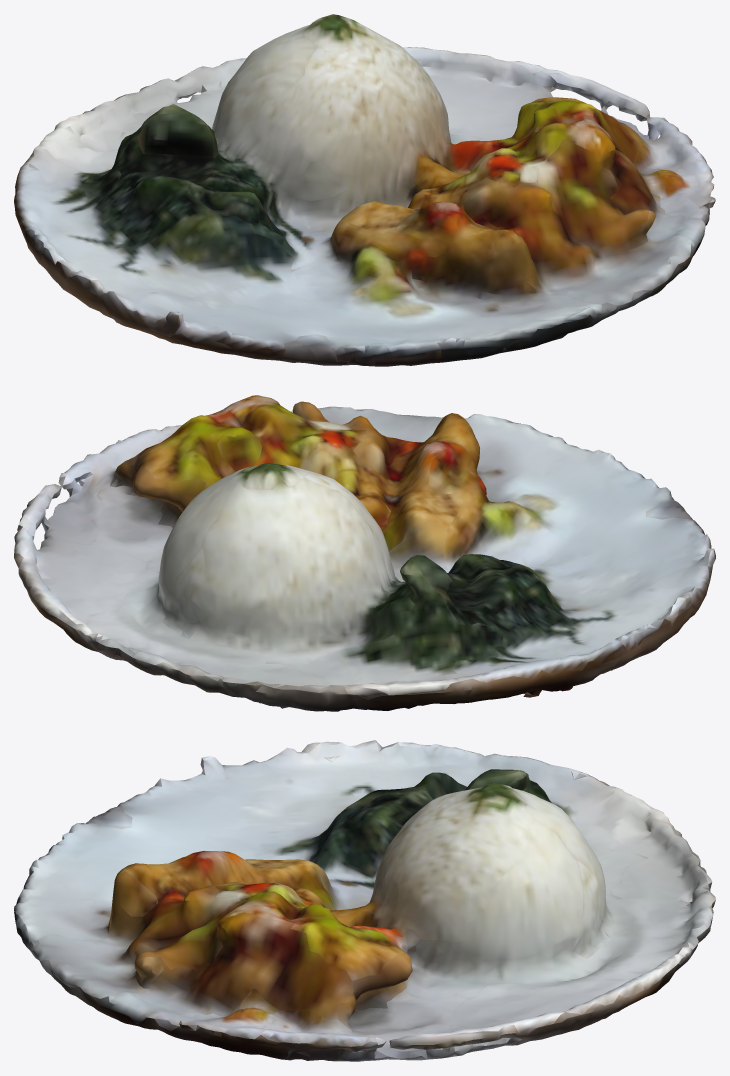
Rendered from rice-with-fish.glb.
The picture shows the model from 3 angles, top to bottom: view 1: azimuth 30°, elevation 25°; view 2: azimuth 150°, elevation 25°; view 3: azimuth 270°, elevation 25°; orthographic projection.
Visible parts, largest first — view 1: MDL_OBJ_textured_0; view 2: MDL_OBJ_textured_0; view 3: MDL_OBJ_textured_0.
Part boxes in pixels (left/top/right/bottom): MDL_OBJ_textured_0: left=14, top=14, right=715, bottom=366; MDL_OBJ_textured_0: left=14, top=395, right=715, bottom=711; MDL_OBJ_textured_0: left=14, top=740, right=715, bottom=1061.
Bounding box in the file's own units: 0.2641 × 0.0636 × 0.2607.
1 material, 1 textured.
